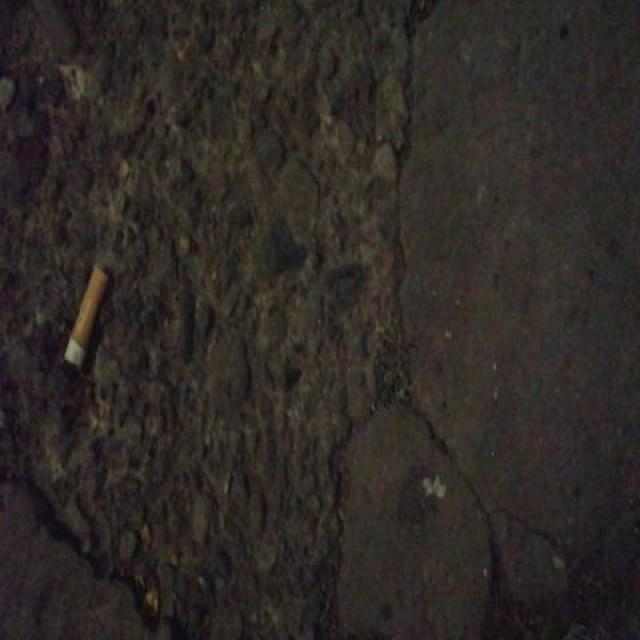non-organic waste: (60, 262, 116, 374)
